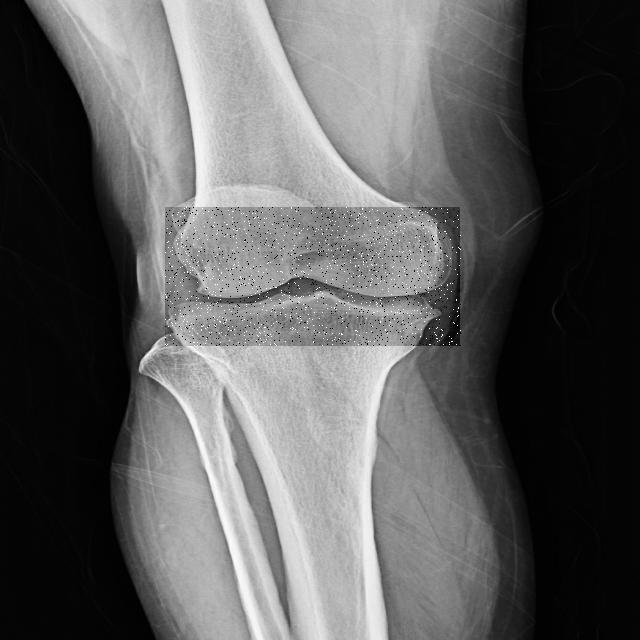normal: (166, 207, 462, 346)
